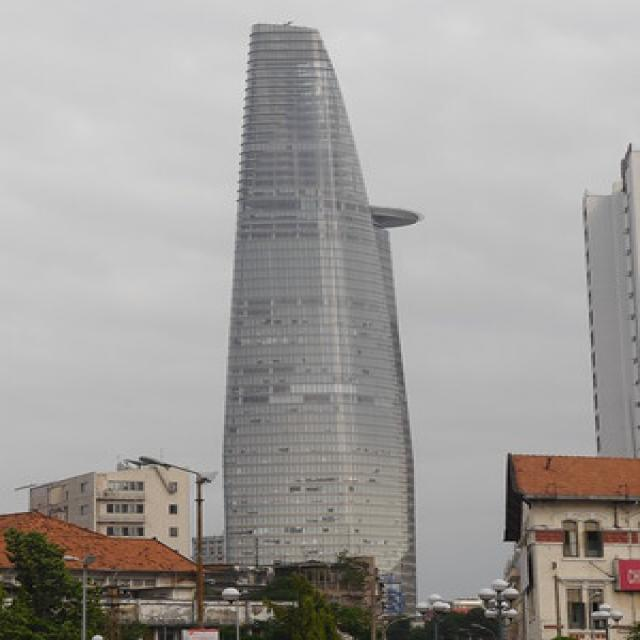Normal_building: (215, 18, 429, 611)
